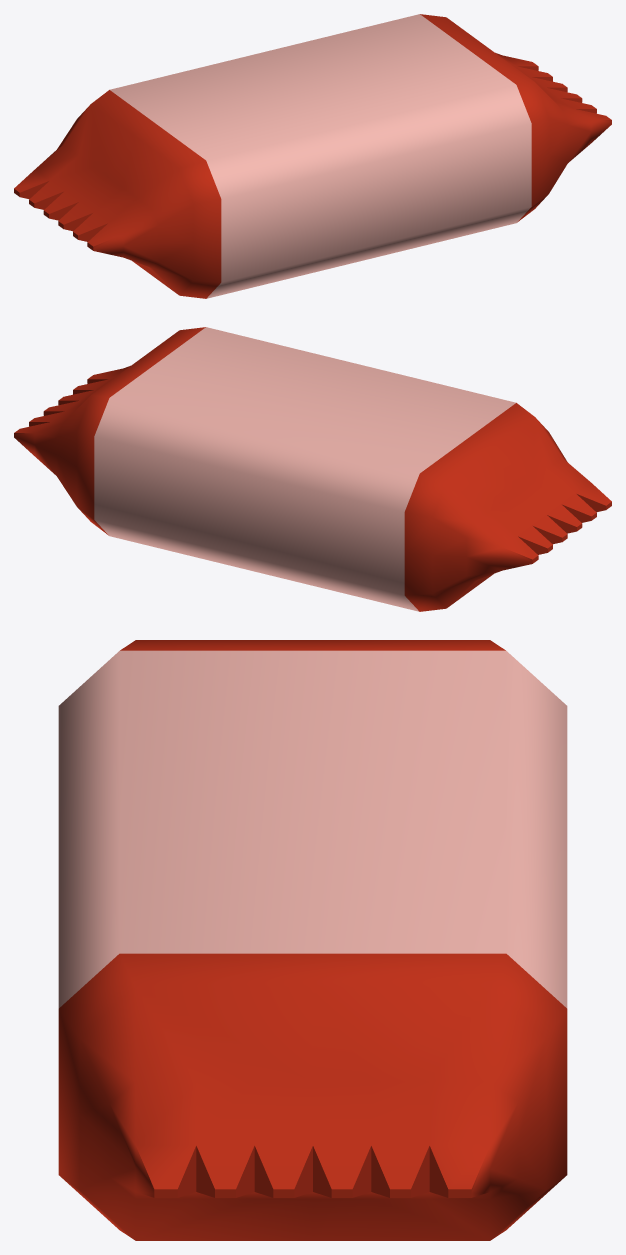
Rendered from Candy_1b.fbx.
3 views of the same model, one above another, from view 1: azimuth 30°, elevation 25°; view 2: azimuth 150°, elevation 25°; view 3: azimuth 270°, elevation 25° (orthographic). The views are drawn at different scales.
Visible parts, largest first — view 1: Candy_1b; view 2: Candy_1b; view 3: Candy_1b.
Boxes of the visible parts, box(x1,y1,x2,y2) form: Candy_1b: box(14, 14, 611, 298); Candy_1b: box(14, 327, 611, 611); Candy_1b: box(58, 640, 567, 1240).
Bounding box in the file's own units: 12.84 × 3.27 × 5.45.
